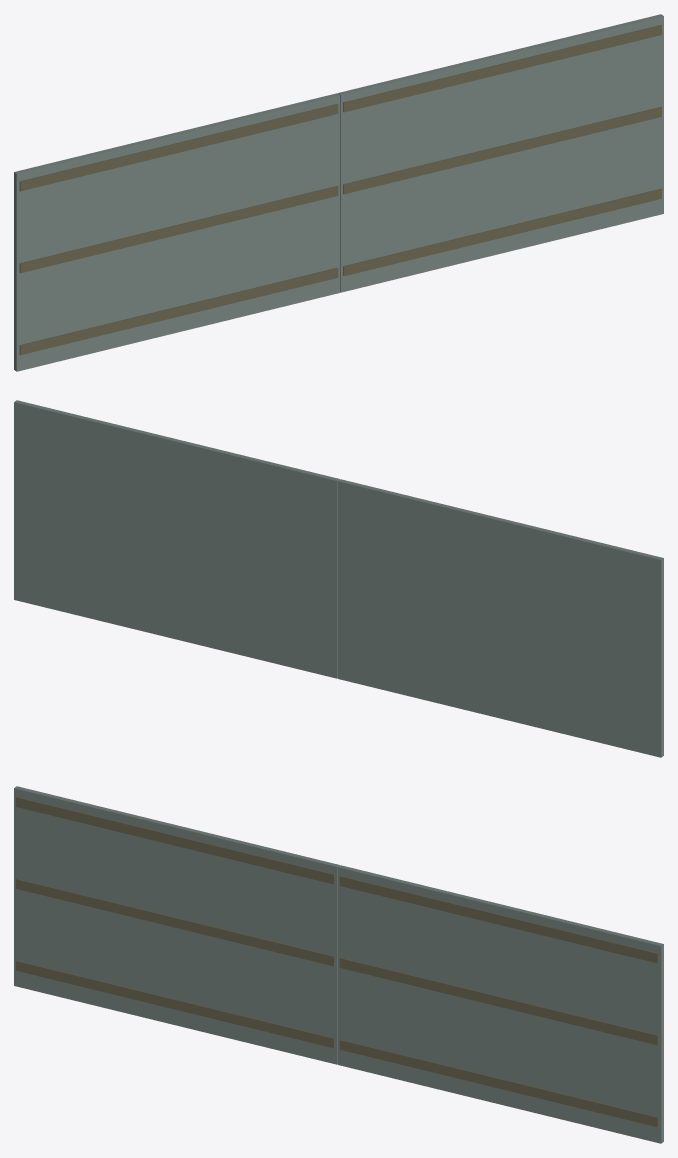
Rendered from SM_Hangar_v2_LOD1.fbx.
The picture shows the model from 3 angles, top to bottom: view 1: azimuth 30°, elevation 25°; view 2: azimuth 150°, elevation 25°; view 3: azimuth 330°, elevation 25°; orthographic projection.
Visible parts, largest first — view 1: Porton_O, Porton_E; view 2: Porton_O, Porton_E; view 3: Porton_E, Porton_O.
Boxes of the visible parts, x1,y1,x2,y2 form: Porton_O: [14, 93, 339, 371]; Porton_E: [338, 14, 663, 292]; Porton_O: [338, 479, 663, 757]; Porton_E: [14, 400, 339, 678]; Porton_E: [338, 865, 663, 1143]; Porton_O: [14, 786, 339, 1064].
Size of what is drawn, in the model's own units: 23.98 by 7 by 0.23.
